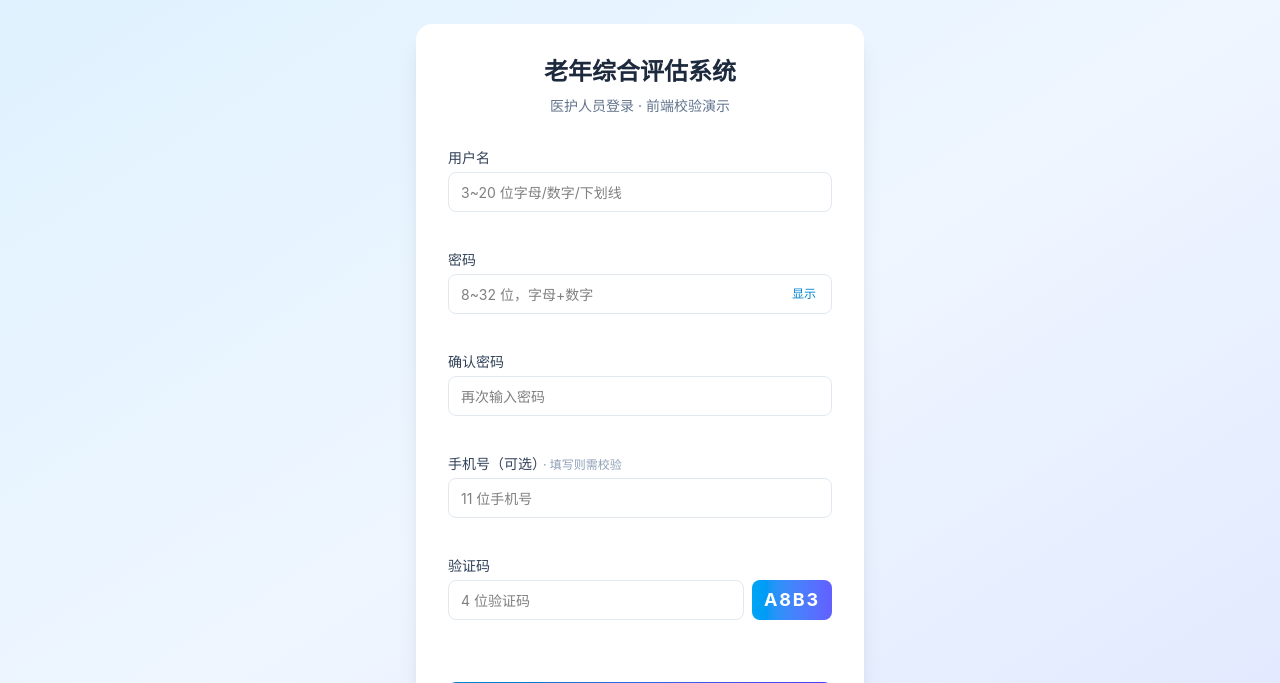
Test: LoginForm › 密码含纯字母时报错
This screenshot has width=1280, height=683.
Type "aaaaaaaa" into the password field with placeholder "8~32 位，字母+数字".
click(640, 294); type("aaaaaaaa")  # box top-left (448, 274), bottom-right (832, 314)
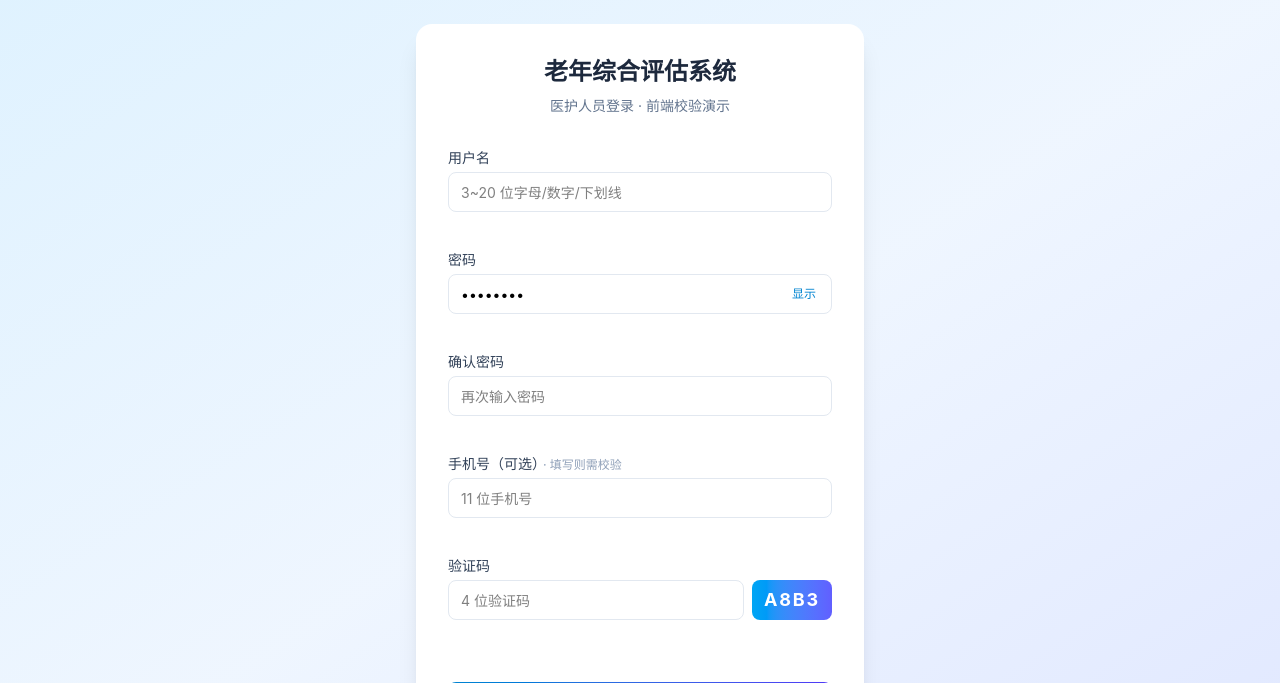
Leave the password field with placeholder "8~32 位，字母+数字", box top-left (448, 274), bottom-right (832, 314)
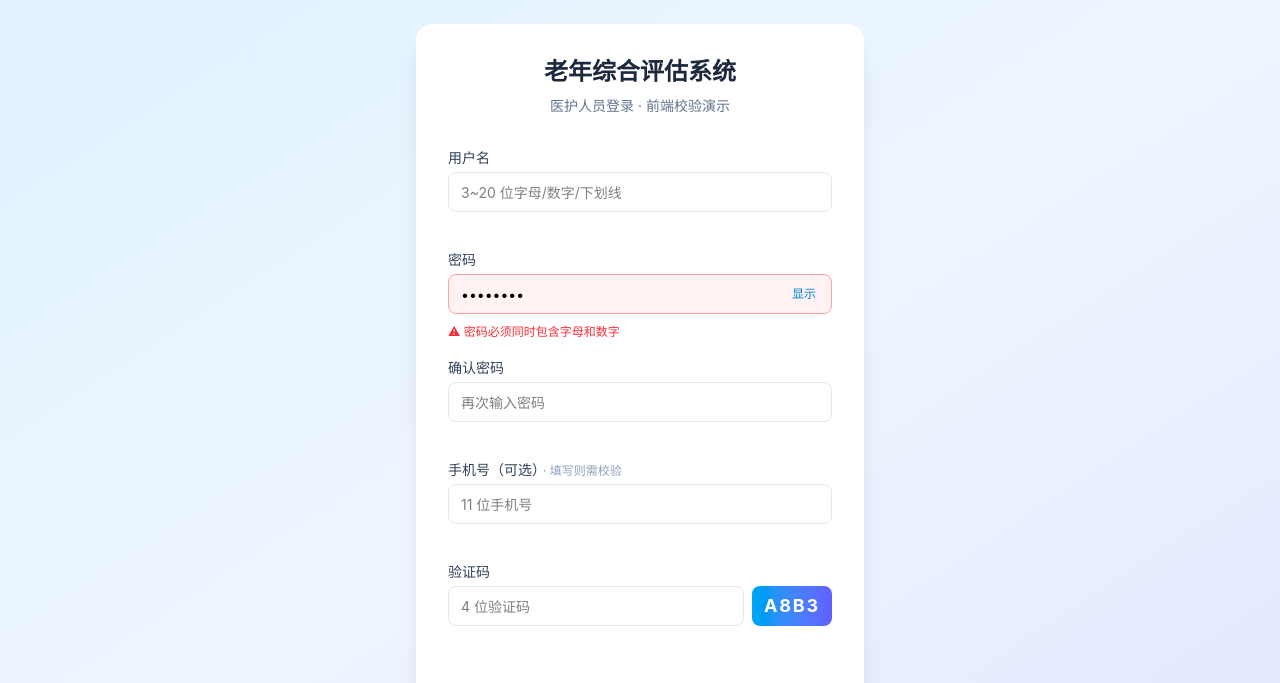
Expected: the text "⚠ 密码必须同时包含字母和数字" is shown, top-left (448, 324), bottom-right (620, 339)
